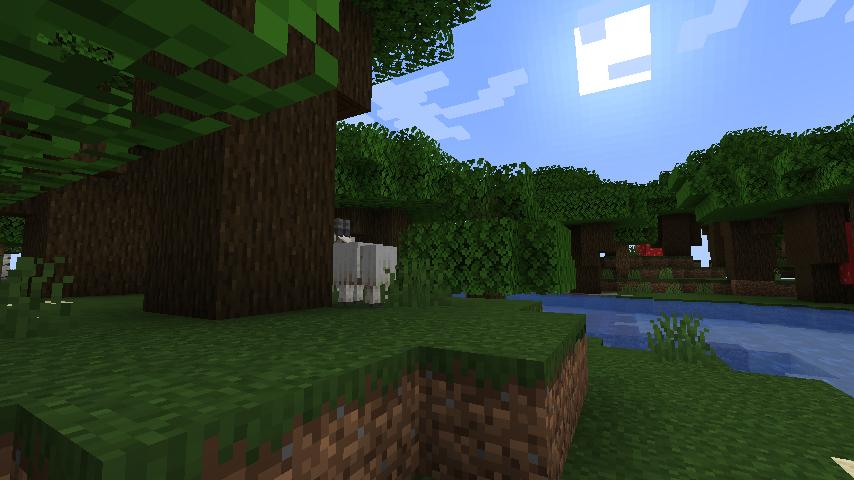goat: (332, 215, 402, 308)
